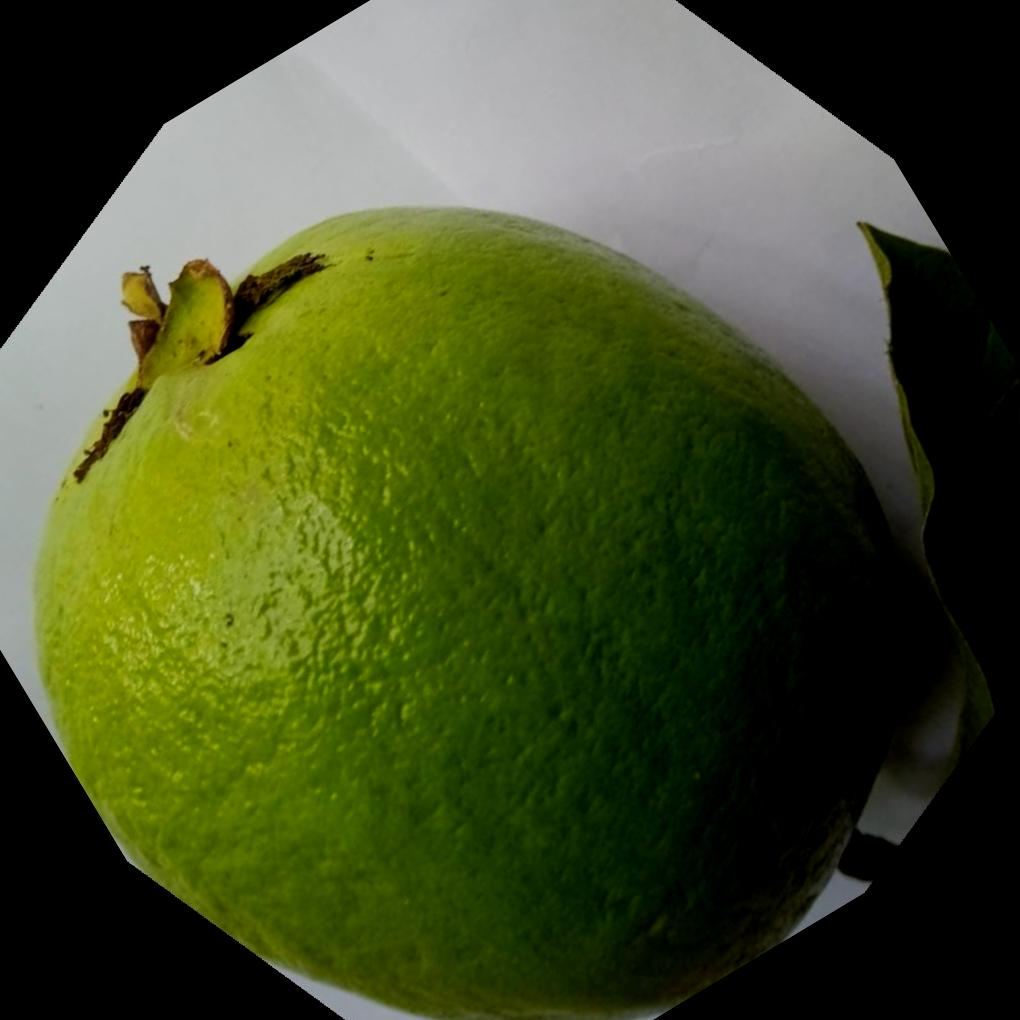FreshGuava: (25, 204, 898, 1020)
